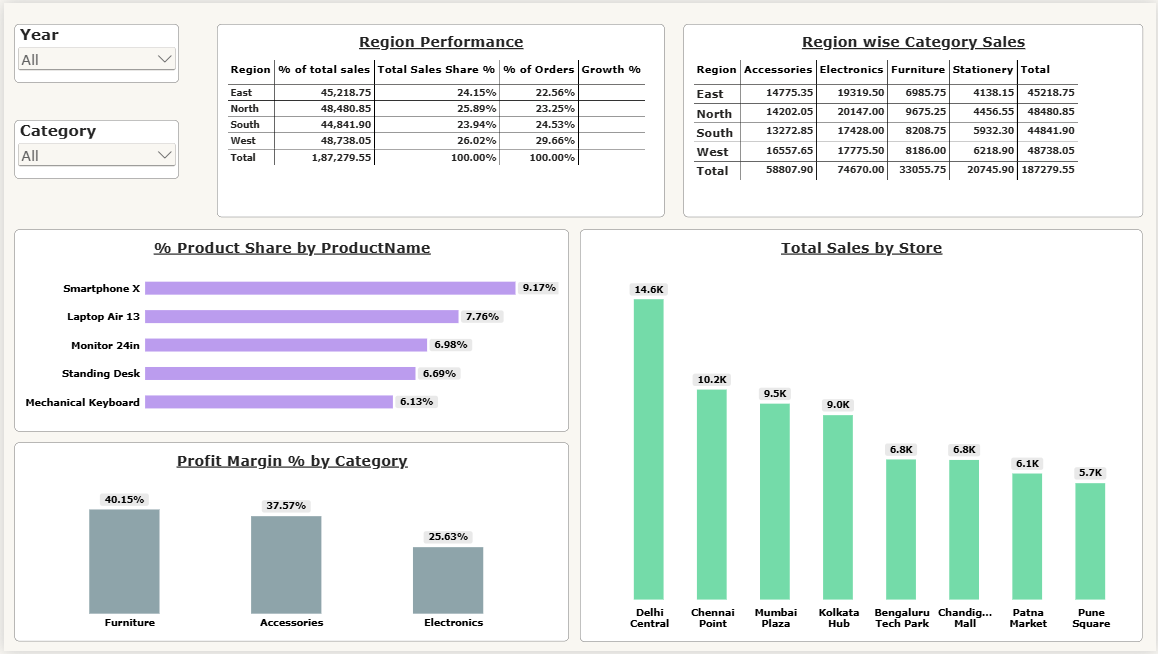

The dashboard page shown, as its layout file describes it:
{"tool":"powerbi","page":{"name":"PRODUCT AND REGION ANALYSIS","canvas":[1920,1080],"ordinal":2},"visuals":[{"type":"slicer","fields":{"Values":["Date Table.Year"]},"box":[17.6,35.2,274.1,98.1],"z":0},{"type":"slicer","fields":{"Values":["Products.Category"]},"box":[17.1,195.1,274.1,98.1],"z":1000},{"type":"pivotTable","title":"Region wise Category Sales","fields":{"Columns":["Products.Category"],"Rows":["Stores.Region"],"Values":["Measure Overview.Total Sales"]},"box":[1131.5,34.1,765.7,321.9],"z":2000},{"type":"barChart","title":"% Product Share by ProductName","fields":{"Category":["Products.ProductName"],"Y":["Measure Prd and Regn.% Share"]},"box":[17.1,378,924.2,336.5],"z":3000},{"type":"tableEx","title":"Region Performance","fields":{"Values":["Stores.Region","Measure Prd and Regn.% of total sales","Measure Prd and Regn.Total Sales Share %","Measure Prd and Regn.% of Orders","Measure Prd and Regn.Growth %"]},"box":[356,34.1,746.2,321.9],"z":4000},{"type":"clusteredColumnChart","title":"Profit Margin % by Category","fields":{"Category":["Products.Category"],"Y":["Measure Overview.Profit Margin %"]},"box":[17.1,731.6,924.2,331.7],"z":5000},{"type":"columnChart","title":"Total Sales by Store","fields":{"Category":["Stores.StoreName"],"Y":["Measure Overview.Total Sales"]},"box":[959.1,377,937.7,687.1],"z":6000}]}

Visuals, with their boxes in screenshot pixels (x1, y1, x2, y2), scaled from the page's 1920x1080 canvas onto the 1158x654 screenshot:
slicer - Date Table.Year: box=[11, 21, 176, 81]
slicer - Products.Category: box=[10, 118, 176, 178]
"Region wise Category Sales" pivotTable: box=[682, 21, 1144, 216]
"% Product Share by ProductName" barChart: box=[10, 229, 568, 433]
"Region Performance" tableEx: box=[215, 21, 665, 216]
"Profit Margin % by Category" clusteredColumnChart: box=[10, 443, 568, 644]
"Total Sales by Store" columnChart: box=[578, 228, 1144, 644]
